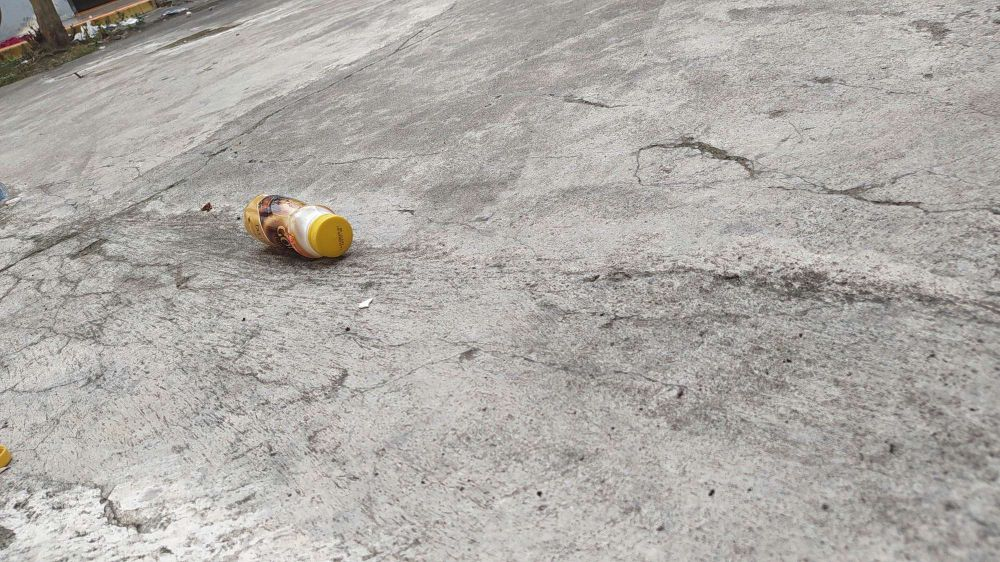botol: (236, 173, 361, 267)
